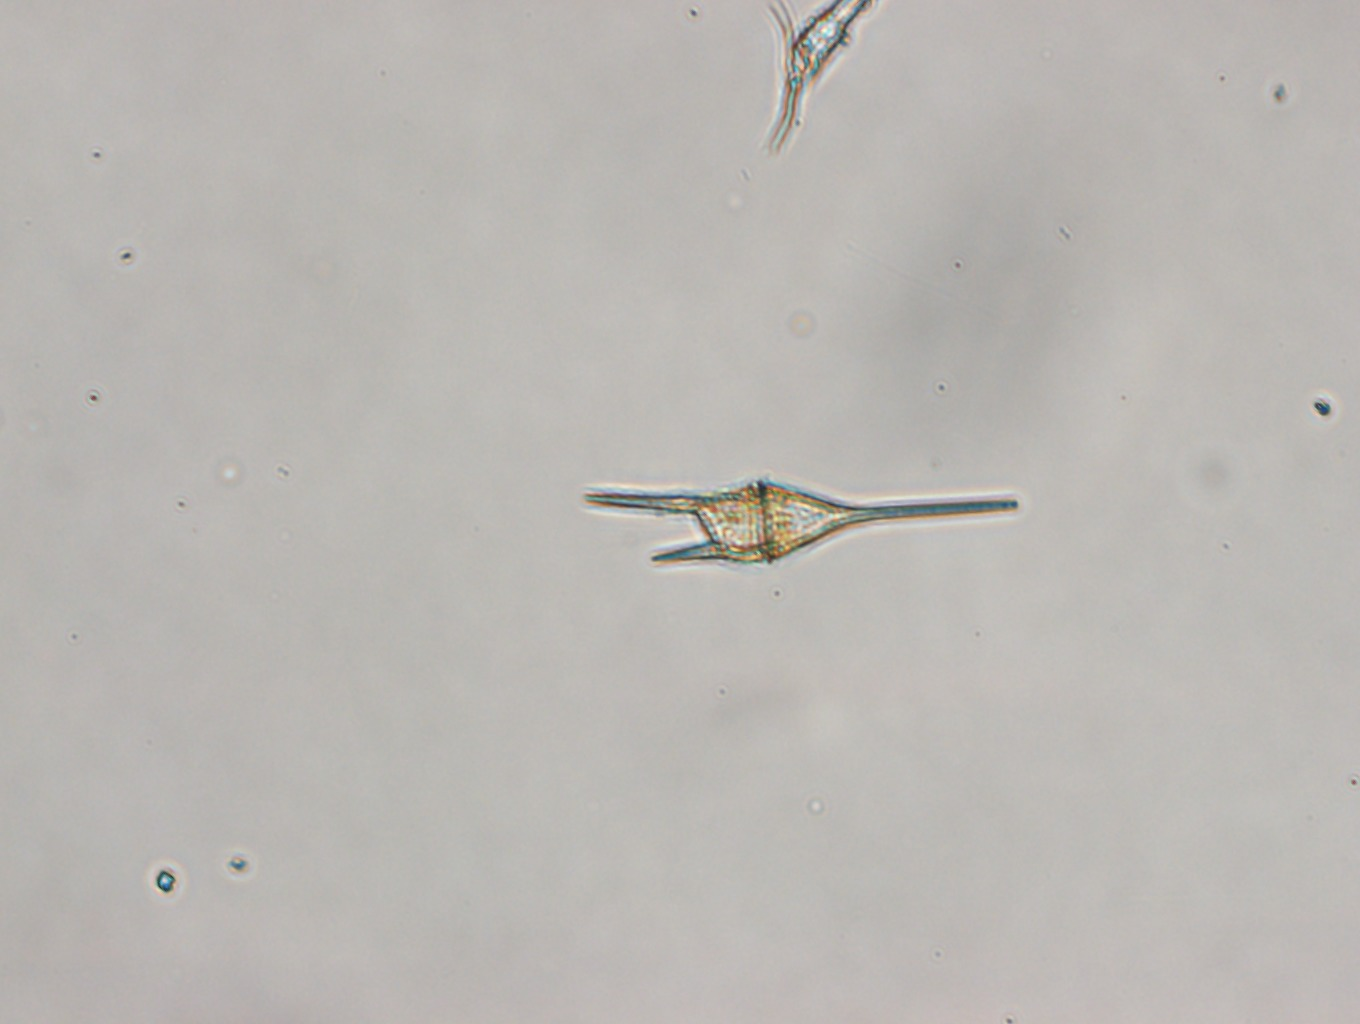ceratium furca: (579, 477, 1019, 567)
